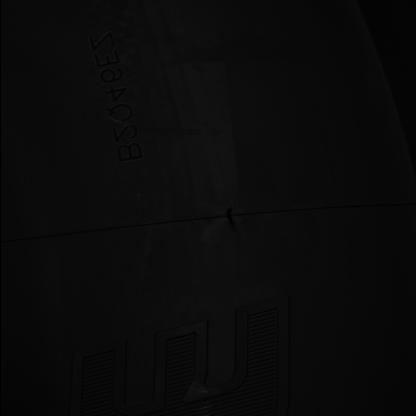ocr: (84, 31, 146, 162)
